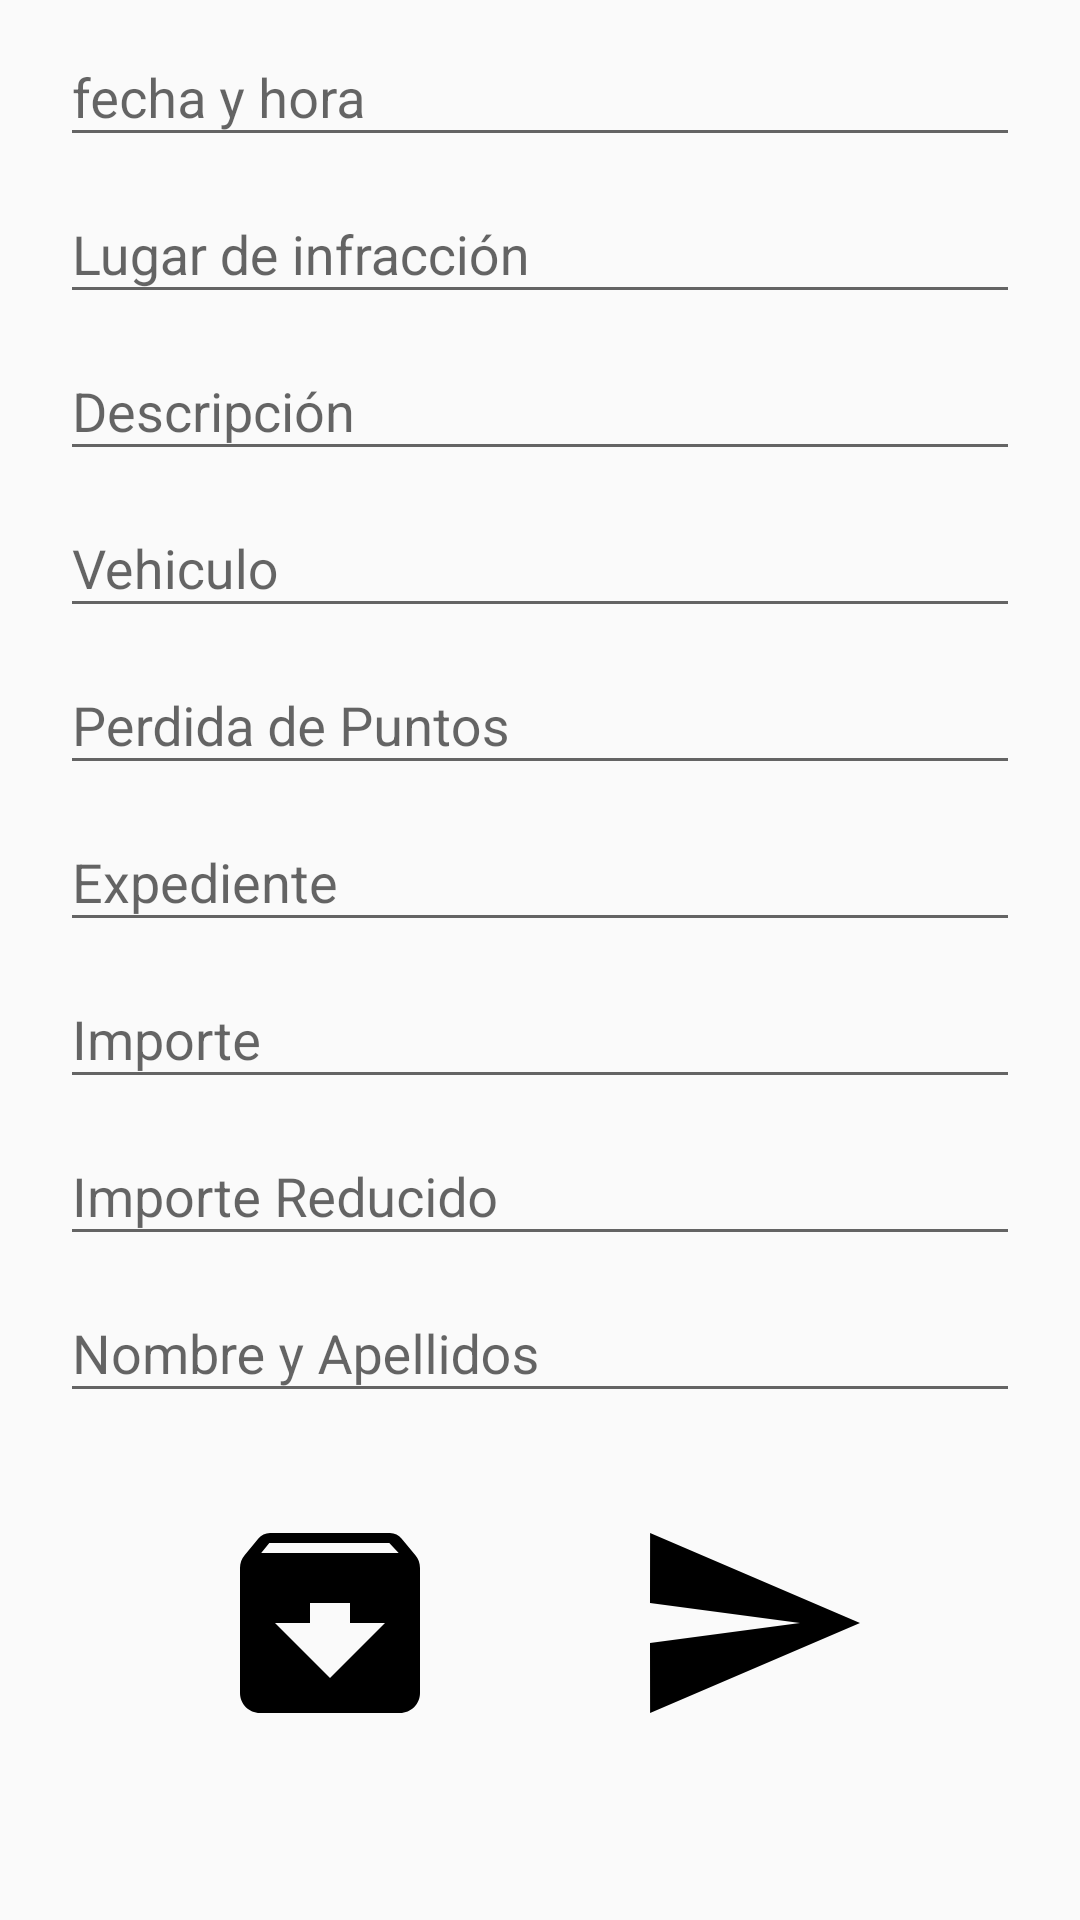

Named icons in this screenshot (1080w x 1920h) and their centers, [x,y]:
enviar: [755,1623]
guardar: [330,1623]
